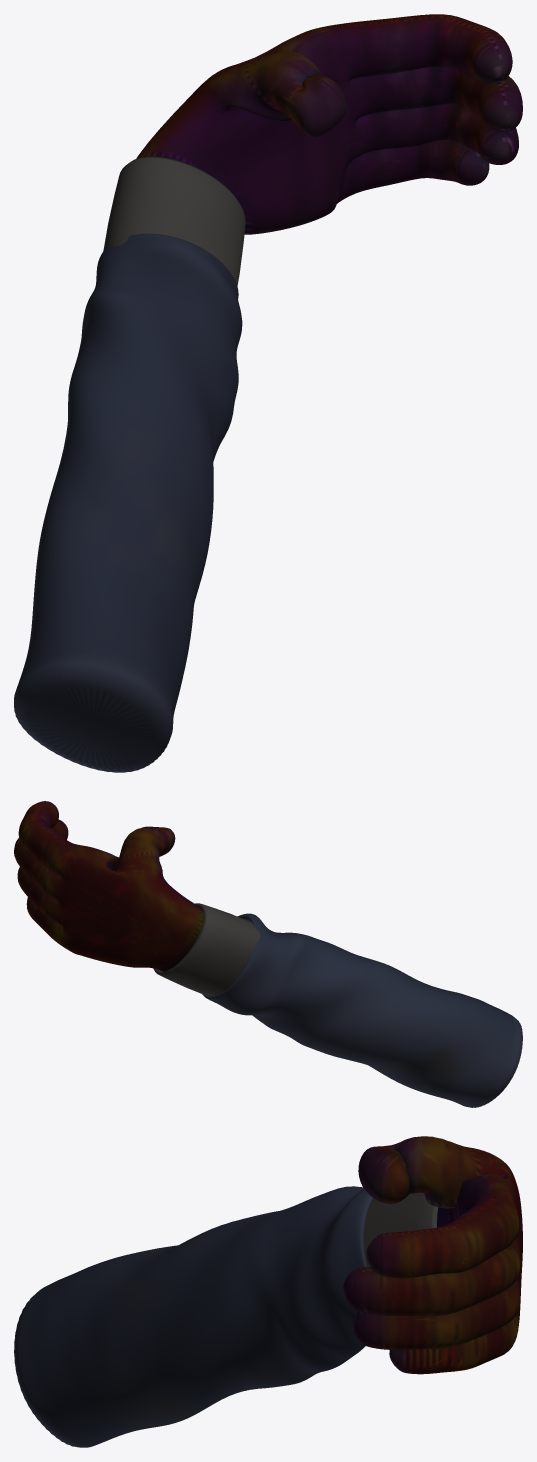
Rendered from fp_hand_L_wide.glb.
The picture shows the model from 3 angles, top to bottom: view 1: azimuth 30°, elevation 25°; view 2: azimuth 150°, elevation 25°; view 3: azimuth 270°, elevation 25°; orthographic projection. The views are drawn at different scales.
Visible parts, largest first — view 1: fp_hand_L_wide; view 2: fp_hand_L_wide; view 3: fp_hand_L_wide.
Boxes of the visible parts, x1,y1,x2,y2 form: fp_hand_L_wide: (14,14,522,772); fp_hand_L_wide: (14,801,522,1107); fp_hand_L_wide: (14,1136,522,1447).
Size of the model in its own units: 0.3385 by 0.2474 by 0.2434.
3 materials, 1 textured.
